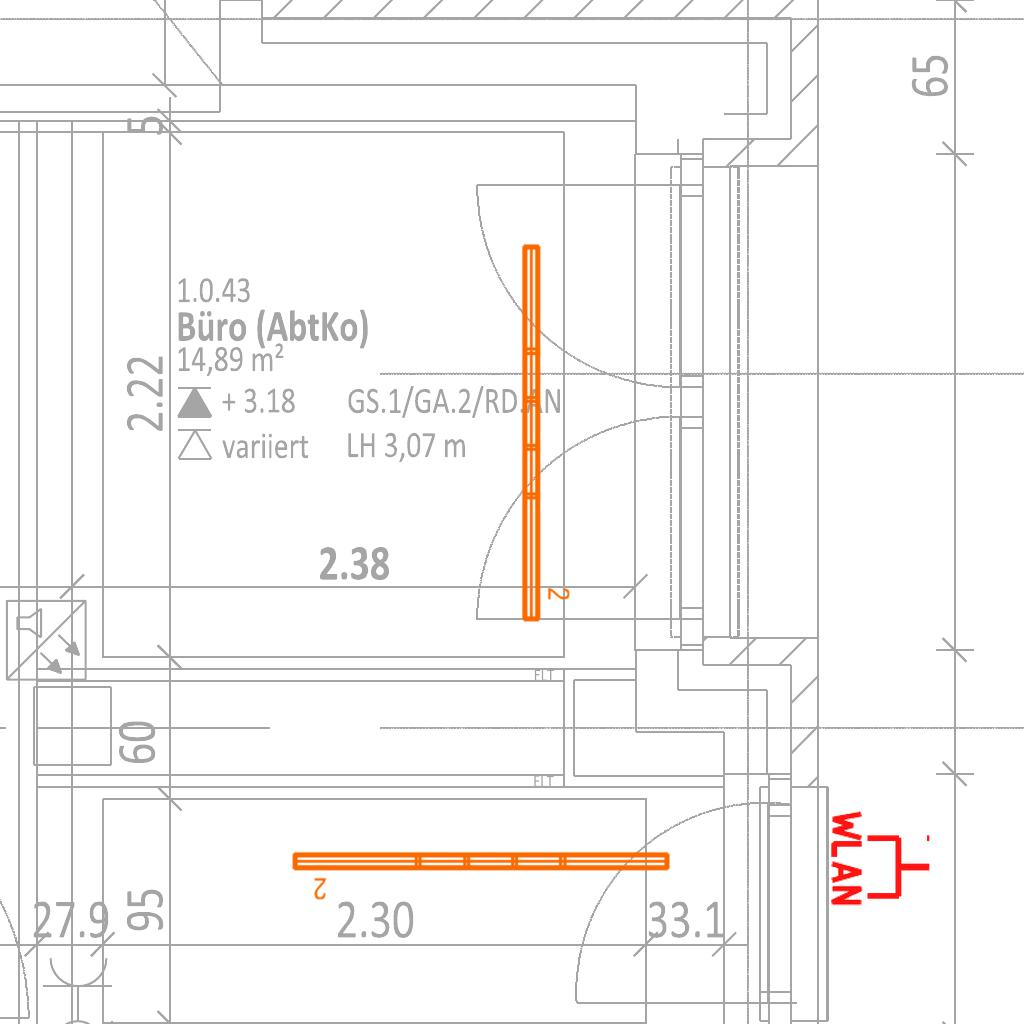Ambulanz_Pendelleuchte_LED: (288, 846, 675, 902), (516, 239, 572, 626)
WLAN: (829, 806, 934, 910)
